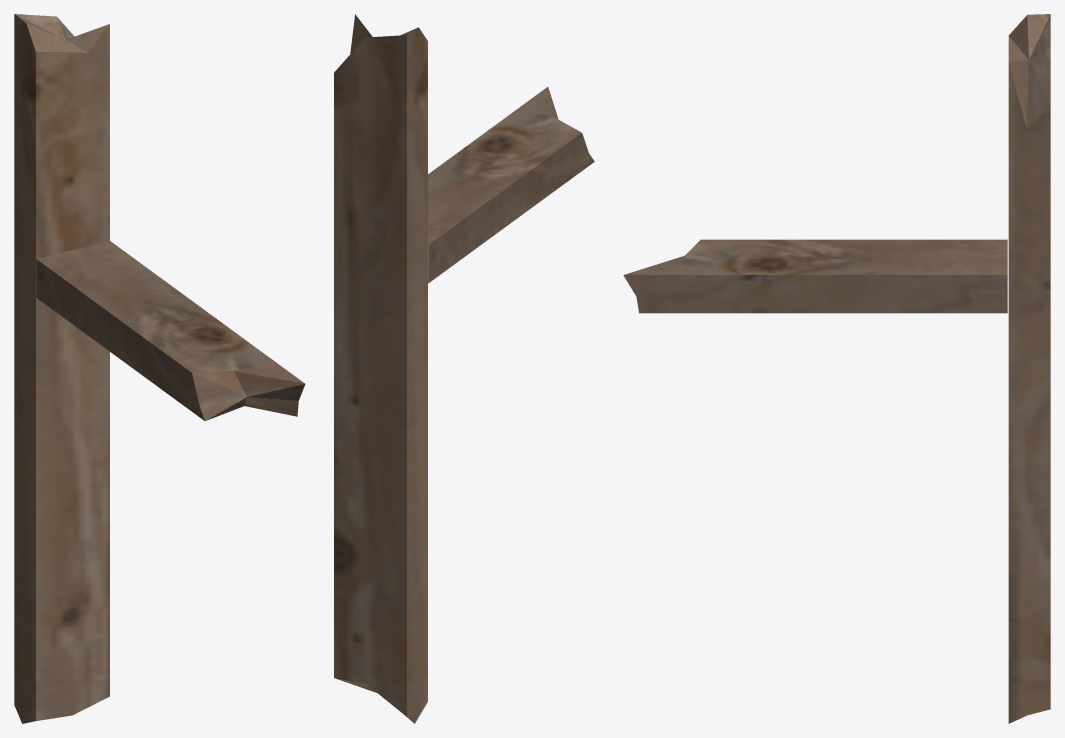
File: infectedbreakwall01_2x4mainpart01_dm.glb
3 renders of one model, left to right at view 1: azimuth 30°, elevation 25°; view 2: azimuth 150°, elevation 25°; view 3: azimuth 270°, elevation 25°, orthographic.
Parts seen in each view (by area): view 1: infectedbreakwall01_2x4mainpart01_dm; view 2: infectedbreakwall01_2x4mainpart01_dm; view 3: infectedbreakwall01_2x4mainpart01_dm.
Boxes of the visible parts, x1=… form: infectedbreakwall01_2x4mainpart01_dm: x1=14, y1=14, x2=305, y2=723; infectedbreakwall01_2x4mainpart01_dm: x1=334, y1=14, x2=594, y2=723; infectedbreakwall01_2x4mainpart01_dm: x1=623, y1=14, x2=1050, y2=723.
Bounding box in the file's own units: 0.0762 × 0.6932 × 0.3872.
Materials: 1 (1 with a texture image).
